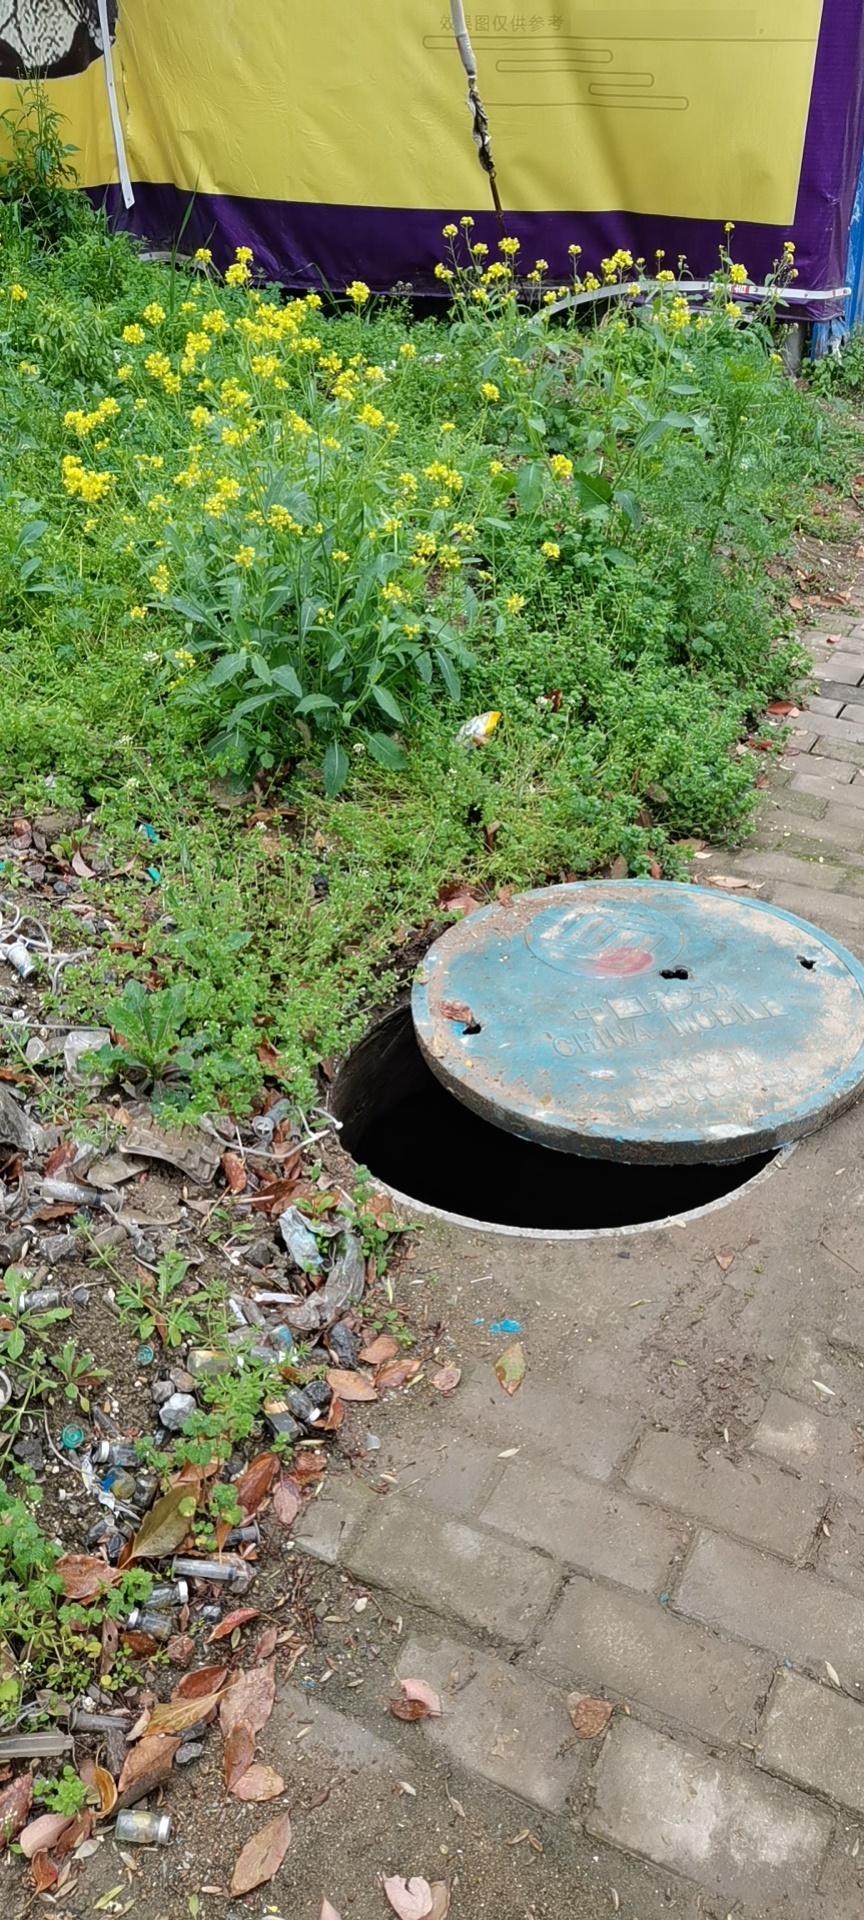uncovered: (319, 877, 864, 1234)
